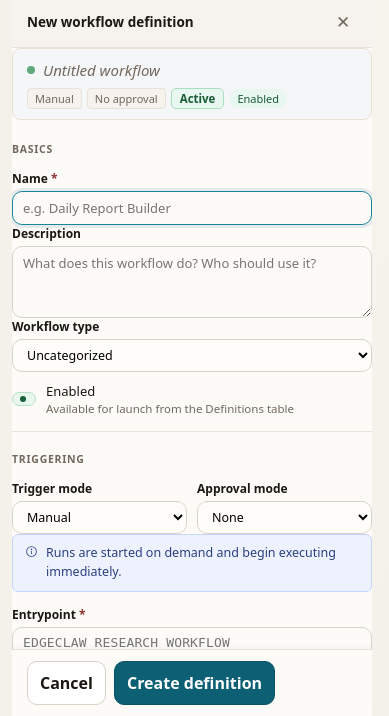
Scenario: Live preview card › toggling the enabled switch updates the chip label to 'Disabled'
Step 1. Click the switch → [24, 399], box [12,392,36,406]
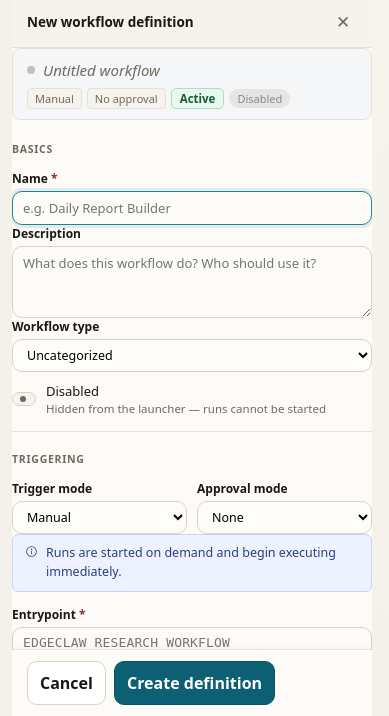
Expected: the text "Disabled" is shown, [229,89,290,108]
